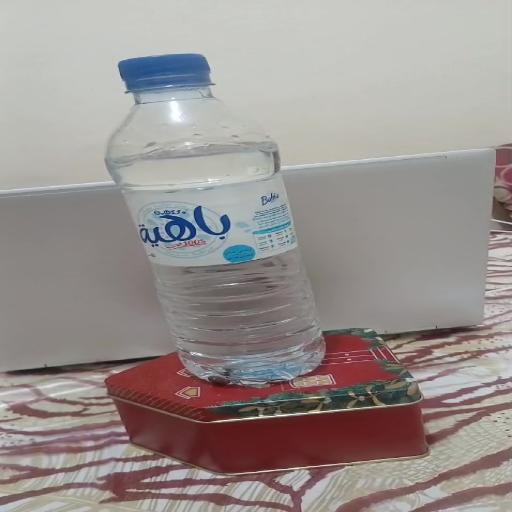bouteille non conformite: (104, 38, 400, 384)
